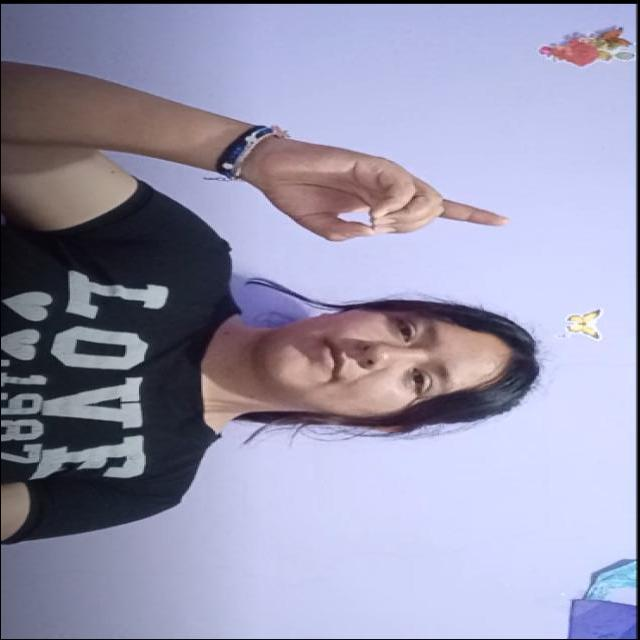D: (250, 133, 526, 260)
